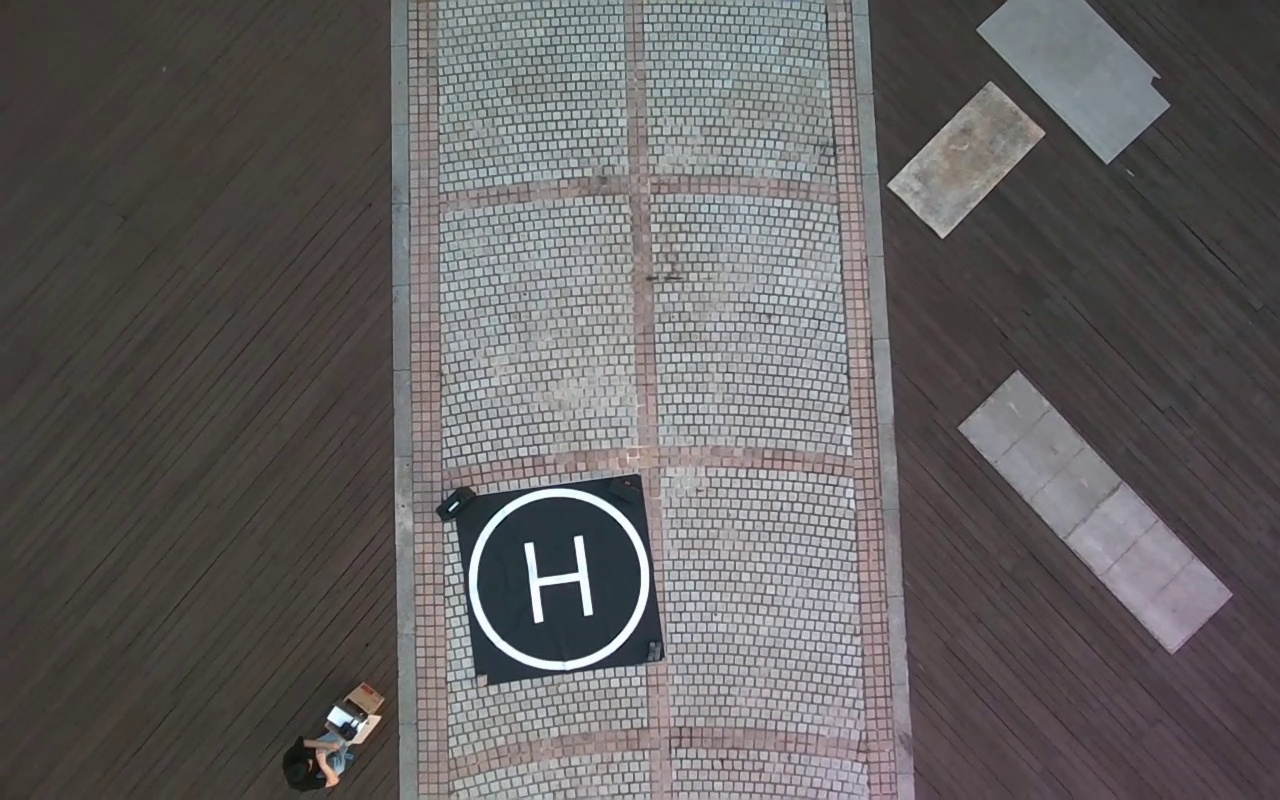H: (524, 534, 593, 624)
heliport: (468, 486, 650, 668)
